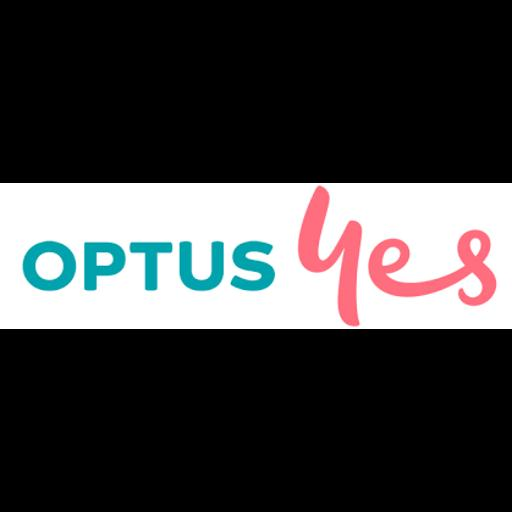Singtel Optus: (0, 183, 512, 329)
